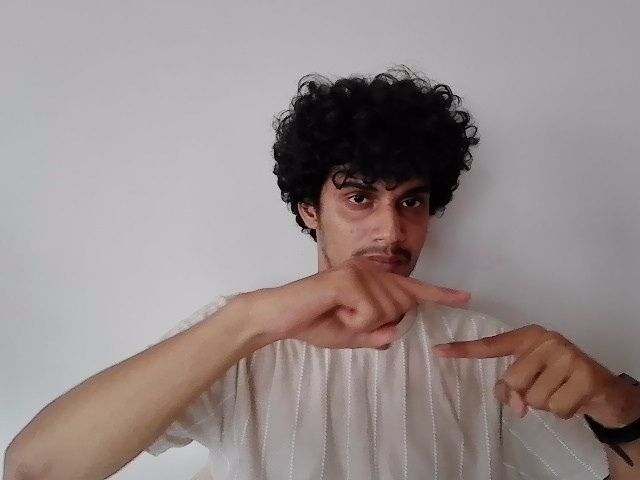about: (238, 256, 597, 422)
